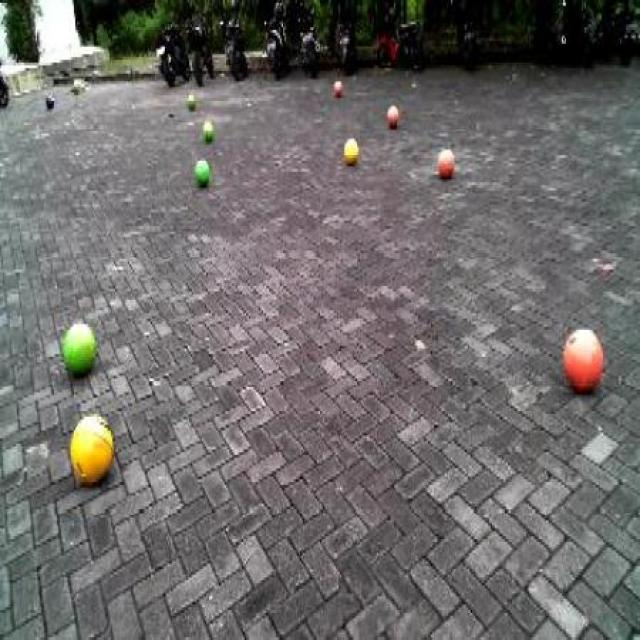buoy: (66, 405, 116, 491), (559, 322, 604, 395), (58, 313, 98, 381), (433, 140, 456, 179), (192, 154, 210, 186)
